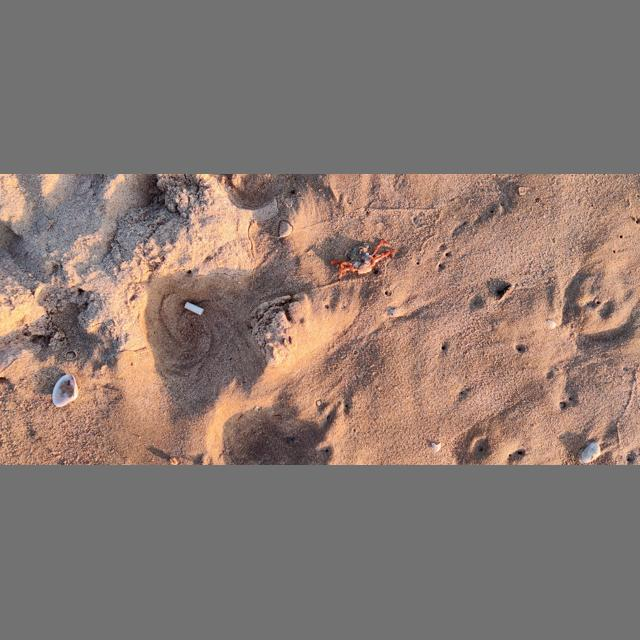litter: (184, 302, 203, 316)
